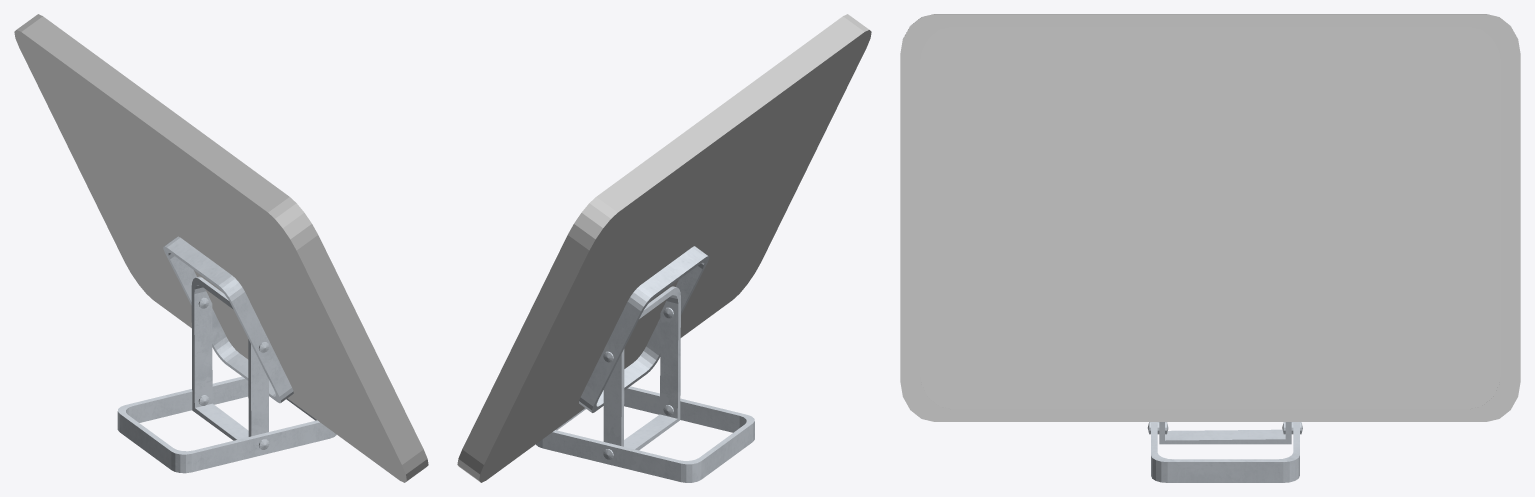
Rendered from SM_Monitor.fbx.
The picture shows the model from 3 angles, left to right: view 1: azimuth 30°, elevation 25°; view 2: azimuth 150°, elevation 25°; view 3: azimuth 270°, elevation 25°; orthographic projection. The views are drawn at different scales.
Visible parts, largest first — view 1: SM_Monitor_LOD0; view 2: SM_Monitor_LOD0; view 3: SM_Monitor_LOD0.
Boxes of the visible parts, x1,y1,x2,y2 form: SM_Monitor_LOD0: [14, 14, 428, 482]; SM_Monitor_LOD0: [457, 14, 871, 482]; SM_Monitor_LOD0: [900, 14, 1520, 482].
Size of the model in its own units: 29.36 by 82.3 by 56.66.
